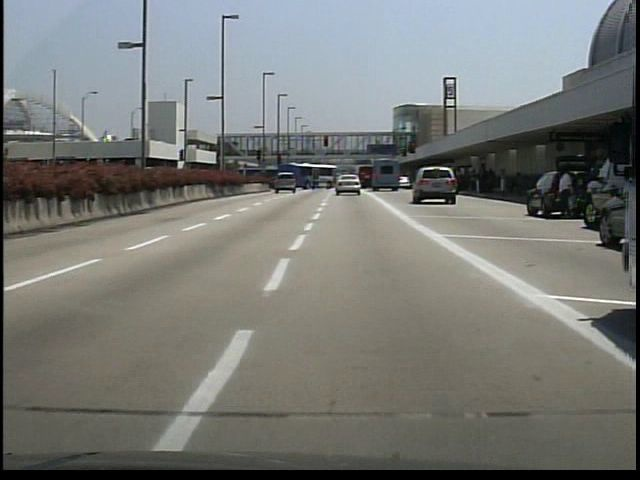person: (554, 169, 575, 220)
